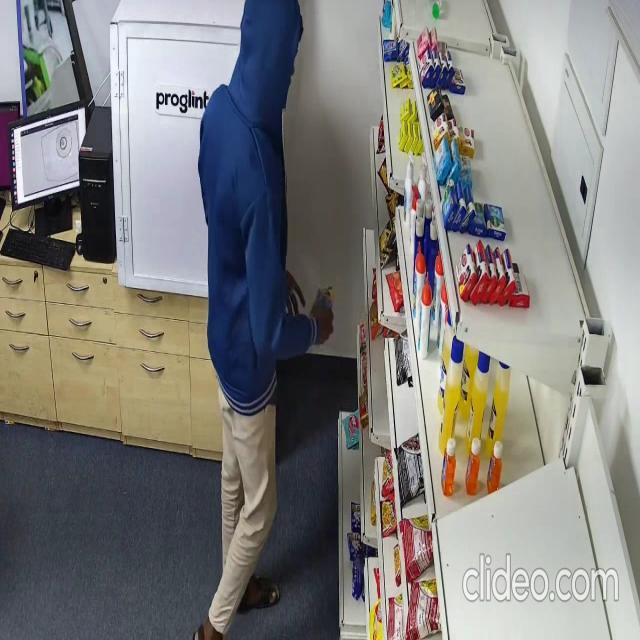normal: (195, 0, 338, 640)
